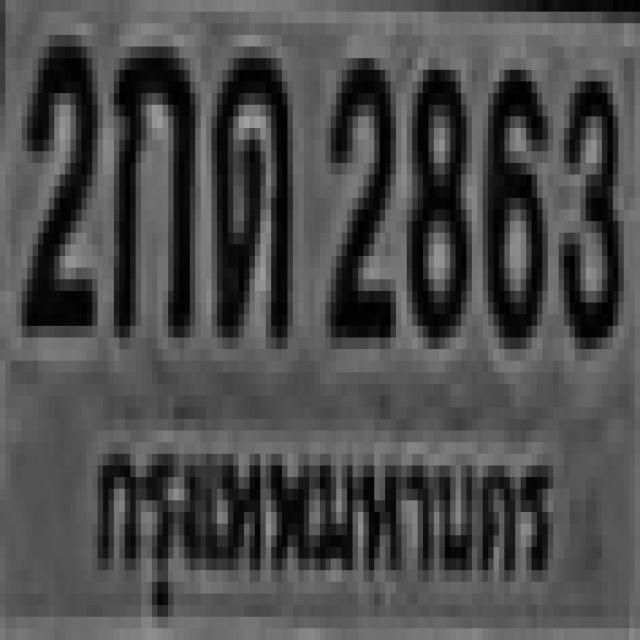10GorGai: (108, 35, 190, 326)
2: (16, 23, 92, 326), (326, 46, 390, 326)
29DorDek: (212, 41, 288, 332)
3: (556, 70, 616, 337)
6: (483, 58, 542, 338)
8: (404, 58, 464, 338)
Bangkok: (87, 419, 567, 613)
